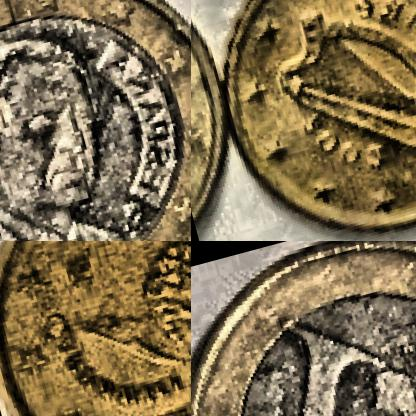coin: (191, 0, 415, 240), (0, 0, 190, 240), (191, 241, 415, 415), (0, 241, 190, 415)
